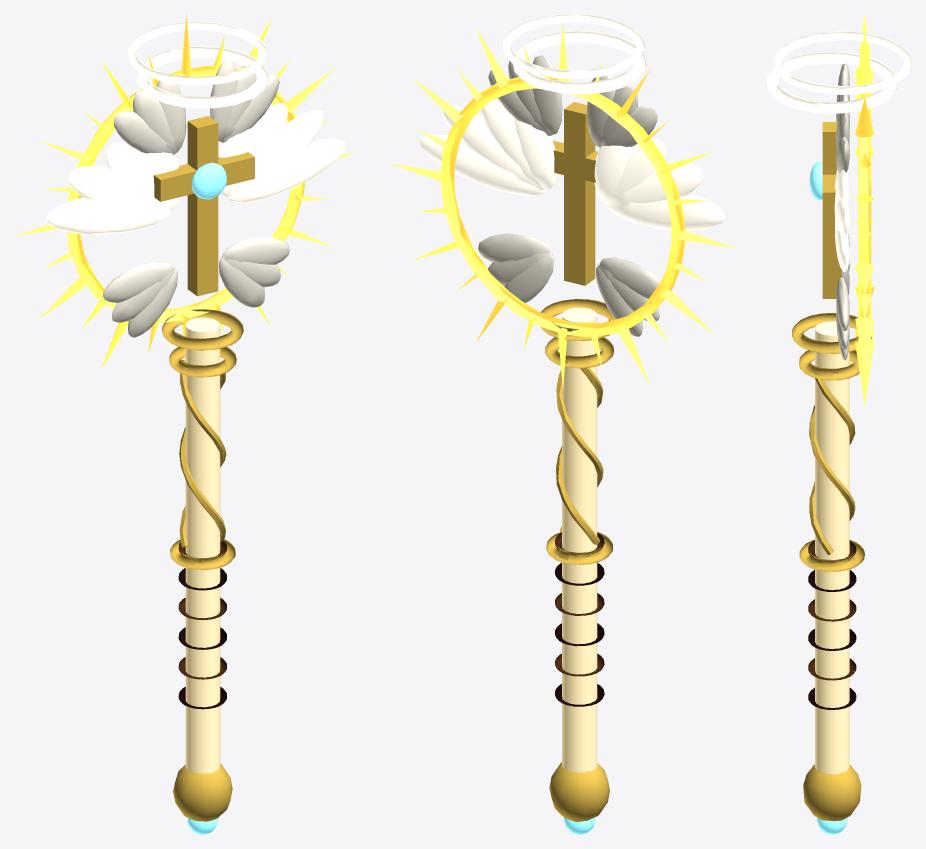
File: priest_wand.glb
The picture shows the model from 3 angles, left to right: view 1: azimuth 30°, elevation 25°; view 2: azimuth 150°, elevation 25°; view 3: azimuth 270°, elevation 25°; orthographic projection. The views are drawn at different scales.
Parts seen in each view (by area): view 1: Divine_wand; view 2: Divine_wand; view 3: Divine_wand.
Part boxes in pixels (x1,y1,x2,y2): Divine_wand: (15,14,357,834); Divine_wand: (388,14,737,834); Divine_wand: (767,14,911,834).
Bounding box in the file's own units: 0.364 × 0.816 × 0.1337.
